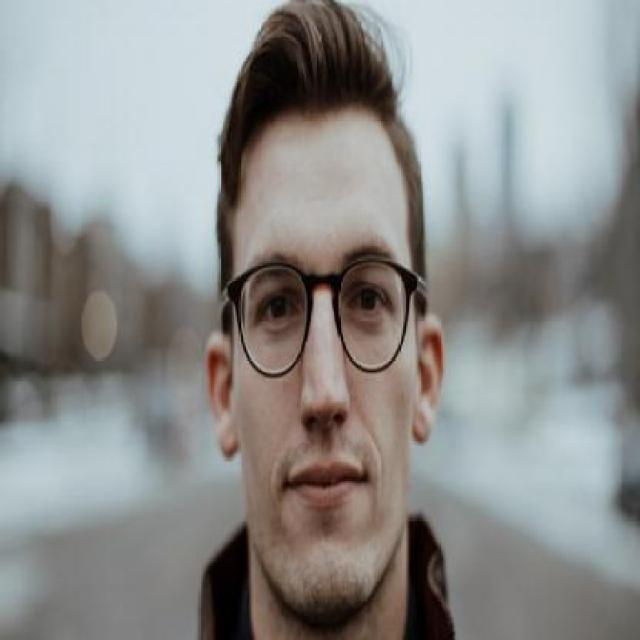mask: (222, 248, 426, 382)
